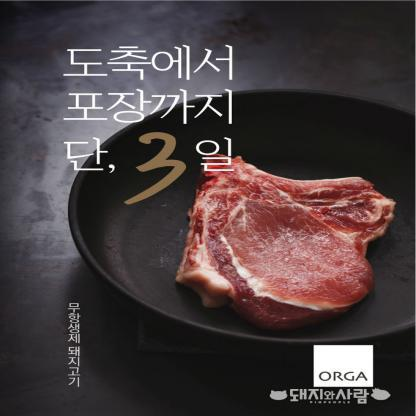pork: (195, 158, 396, 336)
